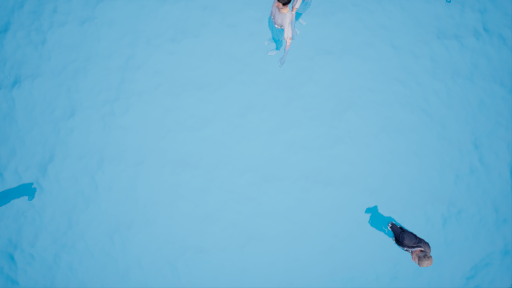person: (353, 204, 440, 272), (258, 1, 297, 64), (288, 1, 310, 59)
